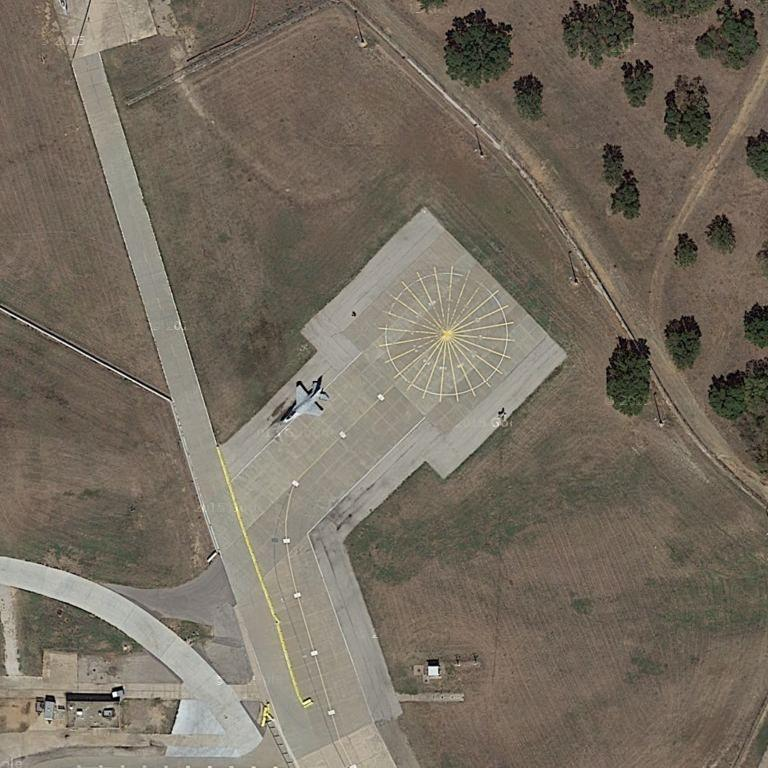F-16: (278, 379, 334, 425)
